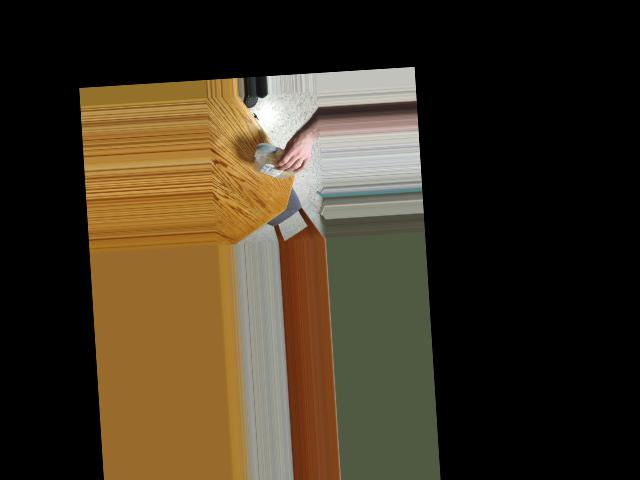cheese: (257, 146, 295, 177)
